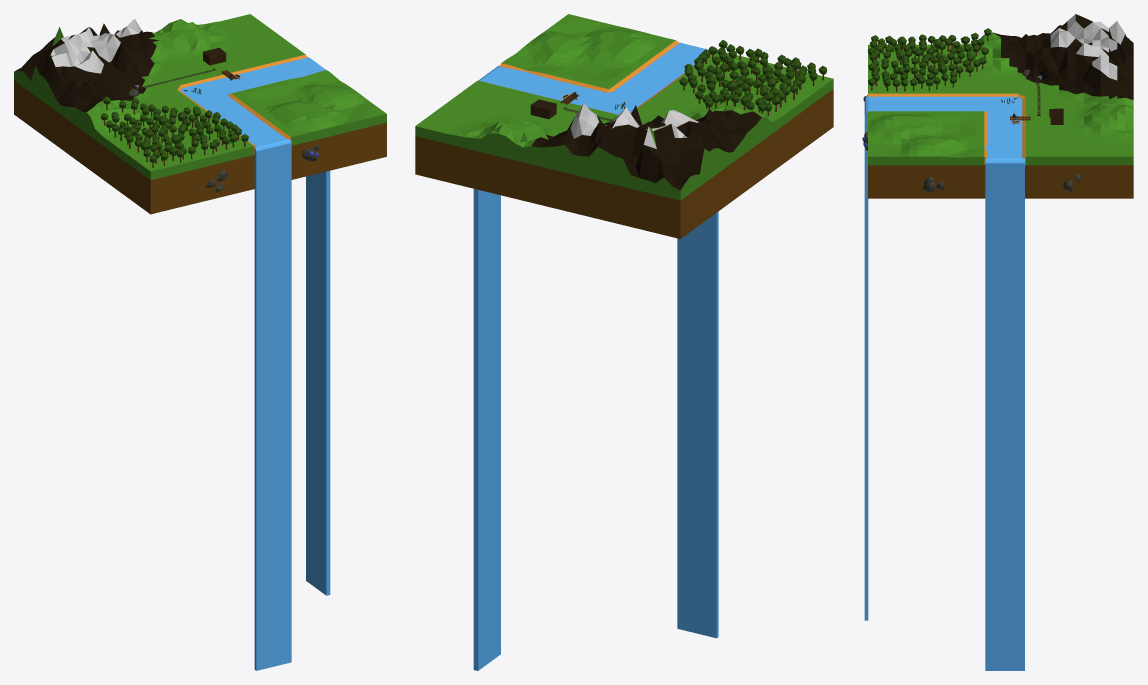
Rendered from landscape.obj.
3 renders of one model, left to right at view 1: azimuth 30°, elevation 25°; view 2: azimuth 150°, elevation 25°; view 3: azimuth 270°, elevation 25°, orthographic. The views are drawn at different scales.
Parts seen in each view (by area): view 1: Land_Cube, Water_Cube.001; view 2: Land_Cube, Water_Cube.001; view 3: Land_Cube, Water_Cube.001.
Boxes of the visible parts, bbox=[...] form: Land_Cube: bbox=[14, 14, 386, 214]; Water_Cube.001: bbox=[180, 57, 330, 670]; Land_Cube: bbox=[415, 14, 833, 238]; Water_Cube.001: bbox=[473, 42, 718, 670]; Land_Cube: bbox=[868, 14, 1133, 198]; Water_Cube.001: bbox=[864, 95, 1024, 670].
Size of the model in its own units: 14.62 by 32.42 by 14.41.
